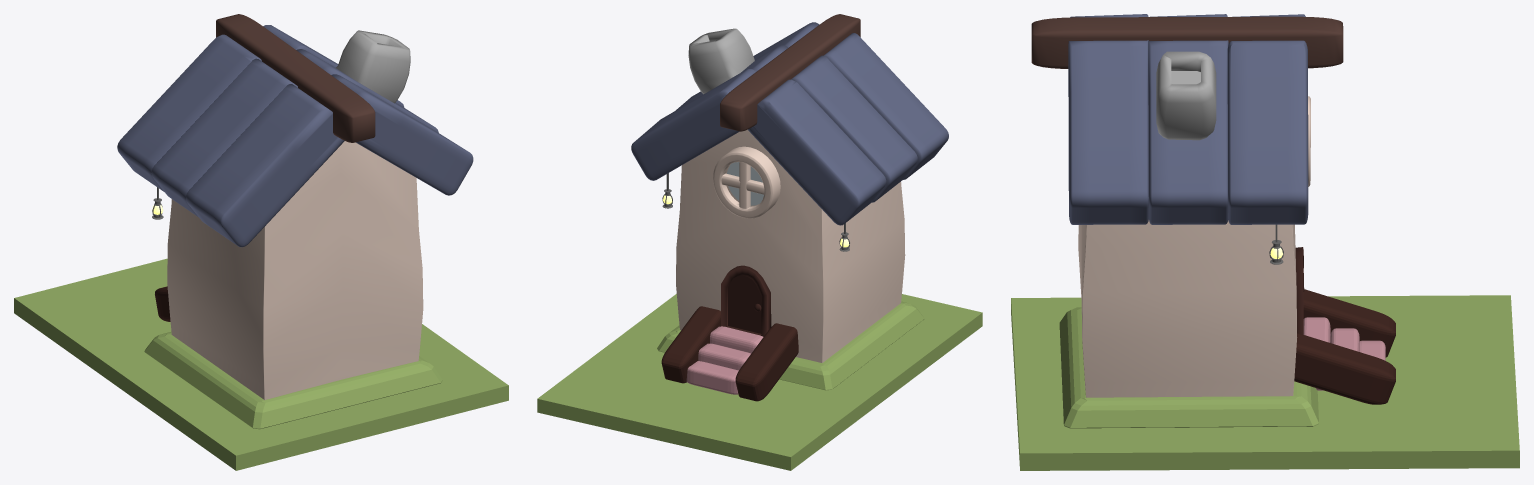
File: house_2.fbx
3 views of the same model, side by side, from view 1: azimuth 30°, elevation 25°; view 2: azimuth 150°, elevation 25°; view 3: azimuth 270°, elevation 25° (orthographic). The views are drawn at different scales.
Visible parts, largest first — view 1: Cube.001, Cube.014, Cube; view 2: Cube.014, Cube, Cube.001, Cube.005, Roundcube, Cylinder.003; view 3: Cube, Cube.014, Cube.001, Cube.005, Roundcube.
Boxes of the visible parts, bbox=[...] form: Cube.001: bbox=[167, 141, 423, 400]; Cube.014: bbox=[117, 14, 473, 247]; Cube: bbox=[14, 258, 508, 470]; Cube.014: bbox=[631, 14, 948, 225]; Cube: bbox=[537, 294, 982, 470]; Cube.001: bbox=[676, 129, 905, 362]; Cube.005: bbox=[661, 306, 798, 401]; Roundcube: bbox=[721, 265, 771, 336]; Cylinder.003: bbox=[727, 162, 763, 205]; Cube: bbox=[1011, 295, 1519, 470]; Cube.014: bbox=[1031, 14, 1343, 224]; Cube.001: bbox=[1078, 96, 1310, 397]; Cube.005: bbox=[1294, 289, 1395, 404]; Roundcube: bbox=[1295, 247, 1304, 334].
Bounding box in the file's own units: 706 × 787 × 959.
